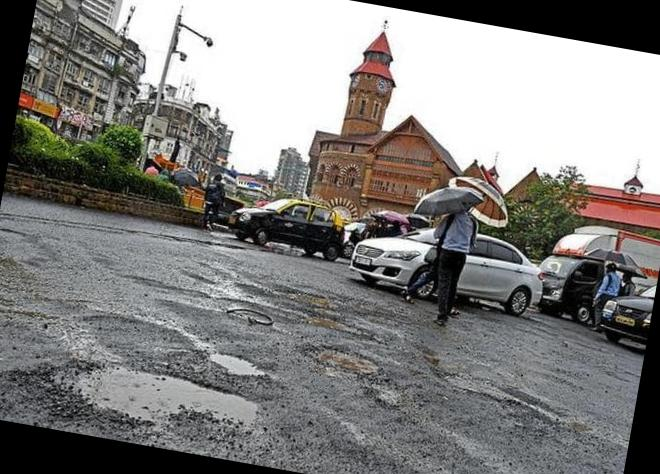pothole: (34, 339, 291, 461), (0, 282, 78, 362), (199, 343, 284, 391), (303, 337, 389, 384), (274, 282, 350, 317), (300, 308, 366, 342)
